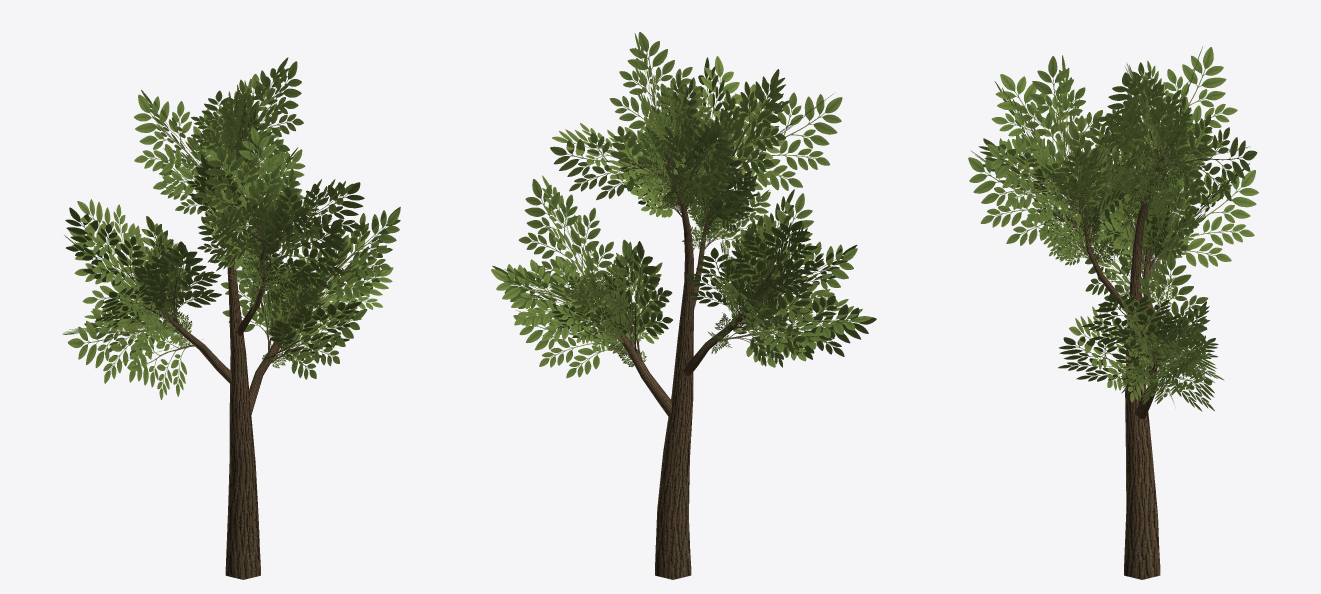
File: Tree5.gltf
The picture shows the model from 3 angles, left to right: view 1: azimuth 30°, elevation 25°; view 2: azimuth 150°, elevation 25°; view 3: azimuth 270°, elevation 25°; orthographic projection. The views are drawn at different scales.
Parts seen in each view (by area): view 1: leaves.005, trunk.005; view 2: leaves.005, trunk.005; view 3: leaves.005, trunk.005.
Part boxes in pixels (x1,y1,x2,y2): leaves.005: [62, 57, 400, 399]; trunk.005: [155, 164, 303, 579]; leaves.005: [491, 32, 876, 378]; trunk.005: [601, 163, 752, 579]; leaves.005: [968, 46, 1258, 411]; trunk.005: [1075, 151, 1166, 579].
Bounding box in the file's own units: 60.43 × 78.23 × 49.15.
Materials: 2 (2 with a texture image).
